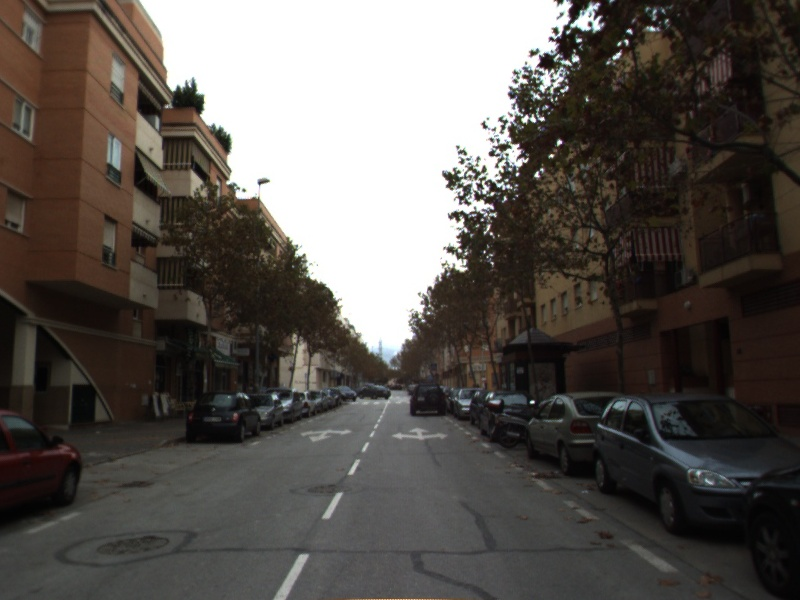STRAIGHT_LEFT_RIGHT: (389, 425, 450, 442)
